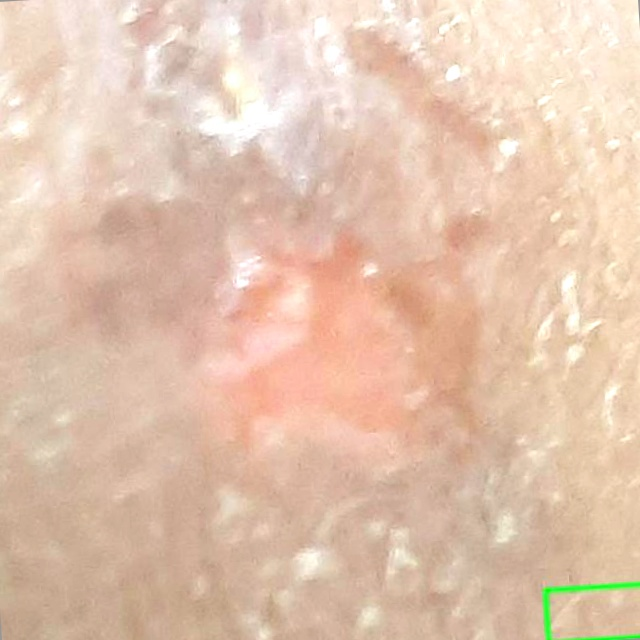Eczema: (545, 584, 639, 639)
